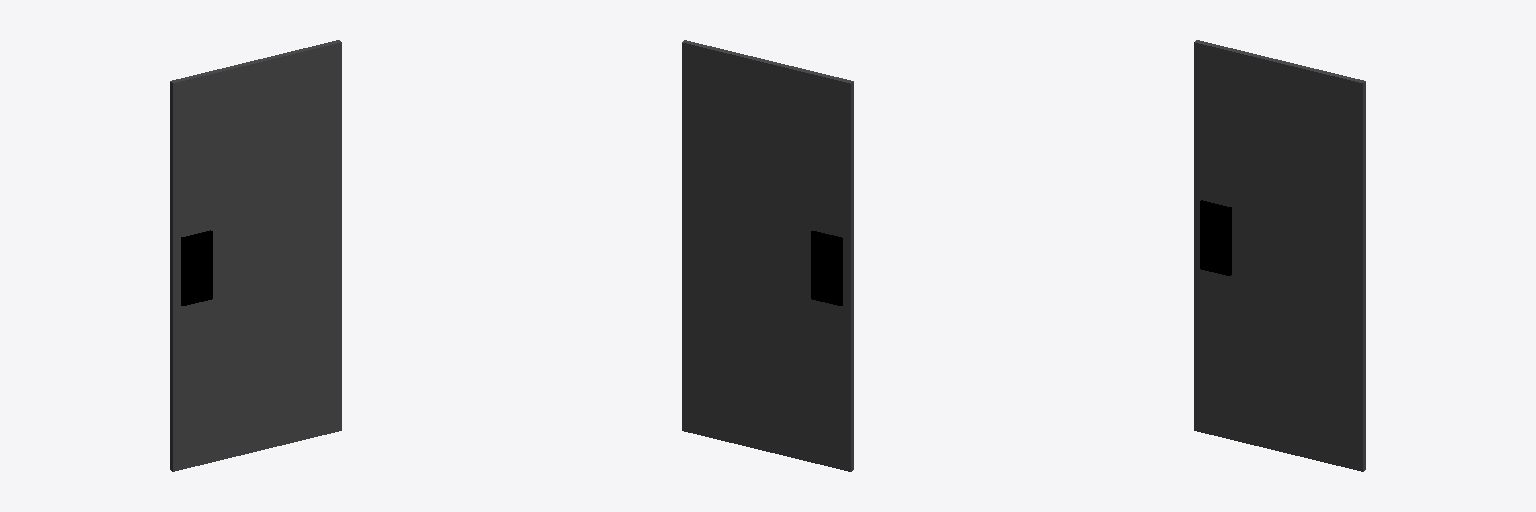
3 renders of one model, left to right at view 1: azimuth 30°, elevation 25°; view 2: azimuth 150°, elevation 25°; view 3: azimuth 330°, elevation 25°, orthographic.
Parts seen in each view (by area): view 1: PuertaBano:pCube3; view 2: PuertaBano:pCube3; view 3: PuertaBano:pCube3.
Part boxes in pixels (left/top/right/bottom): PuertaBano:pCube3: left=170, top=40, right=341, bottom=471; PuertaBano:pCube3: left=682, top=40, right=853, bottom=471; PuertaBano:pCube3: left=1194, top=40, right=1365, bottom=471.
Size of the model in its own units: 2.21 by 4.85 by 0.1637.
Materials: 2 (1 with a texture image).